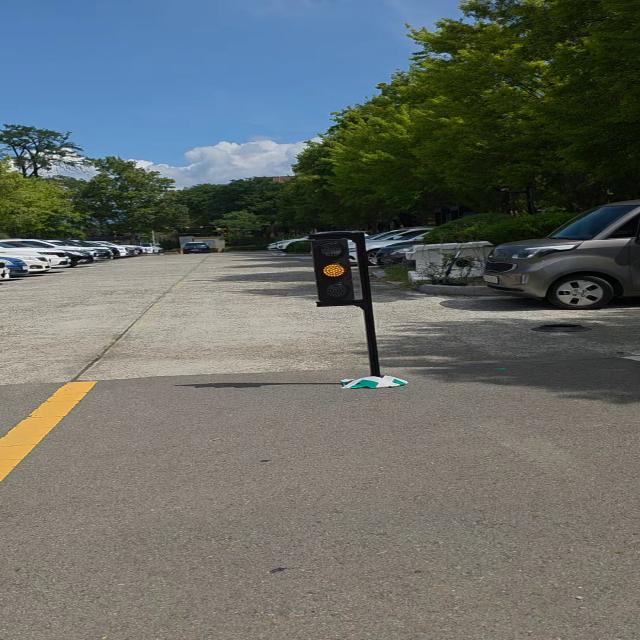yellow: (308, 239, 355, 303)
